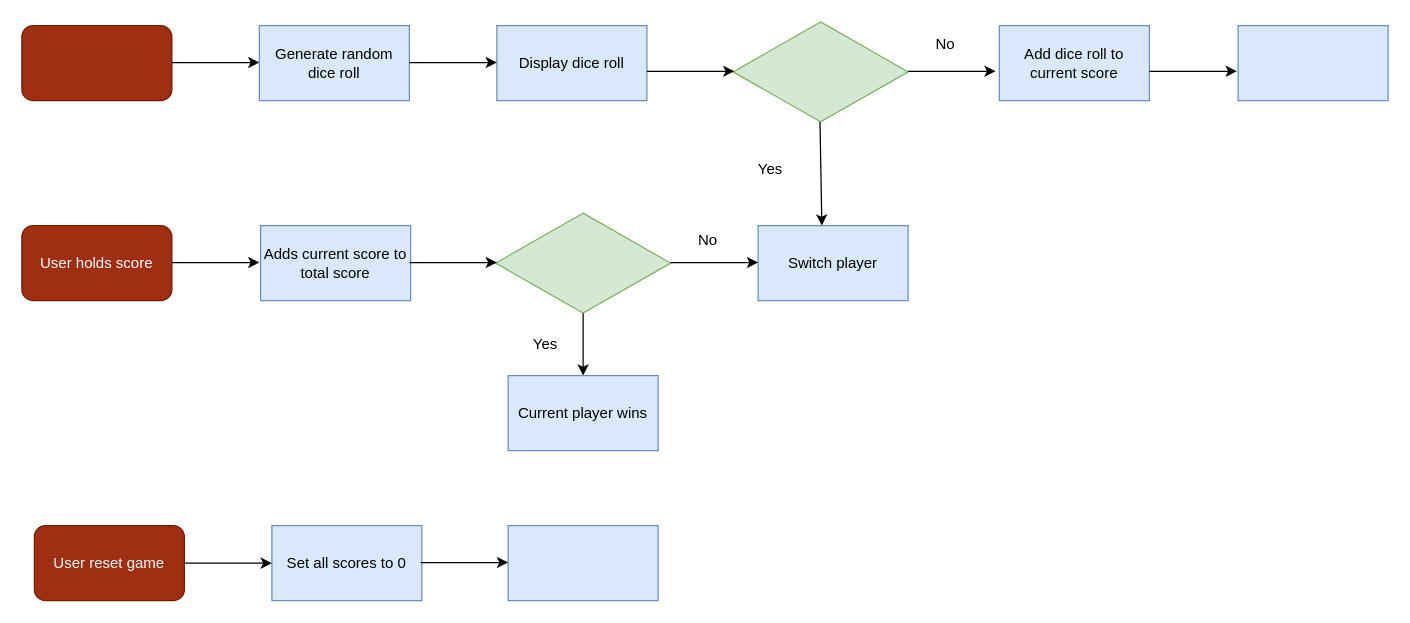
Some shapes in this 1410 by 623 pixel diagram are drawn without their labels. The shapes that lost their labels are listed below. From the top down, each one's centre as x and y in pixels, then its label:
the point at 96,62: User rolls dice
the point at 820,71: Is it a 1 ?
the point at 1312,62: Display new score
the point at 582,262: score >=100 ?
the point at 582,562: Set player 1 as starting player
